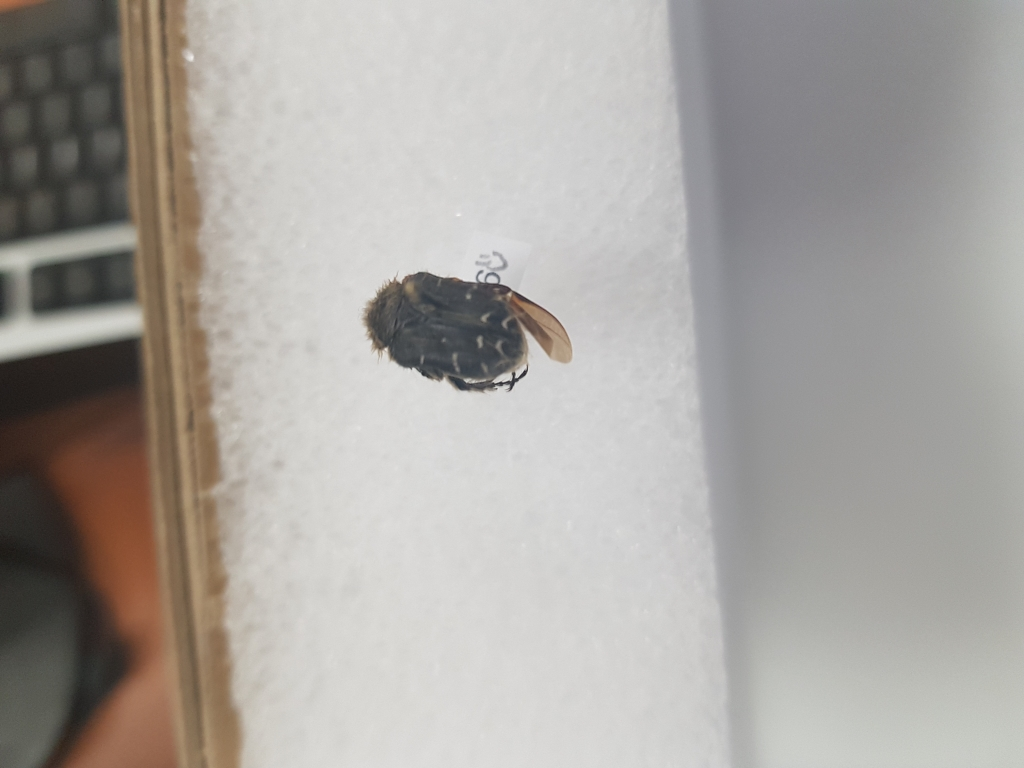Tropinota_senicula: (363, 258, 584, 397)
